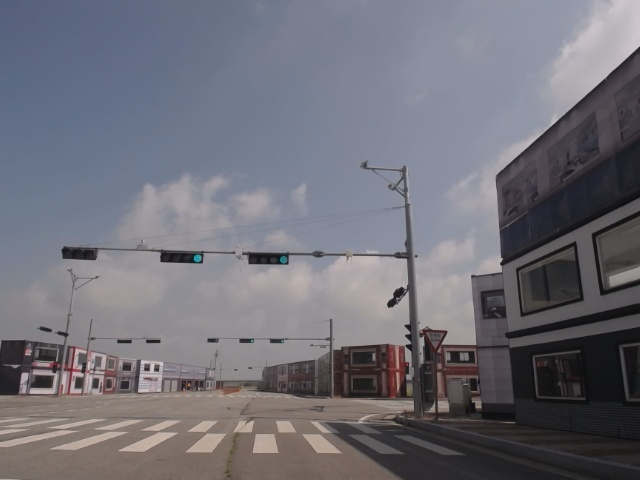straight_green_4: (162, 252, 205, 263), (248, 253, 288, 264)
